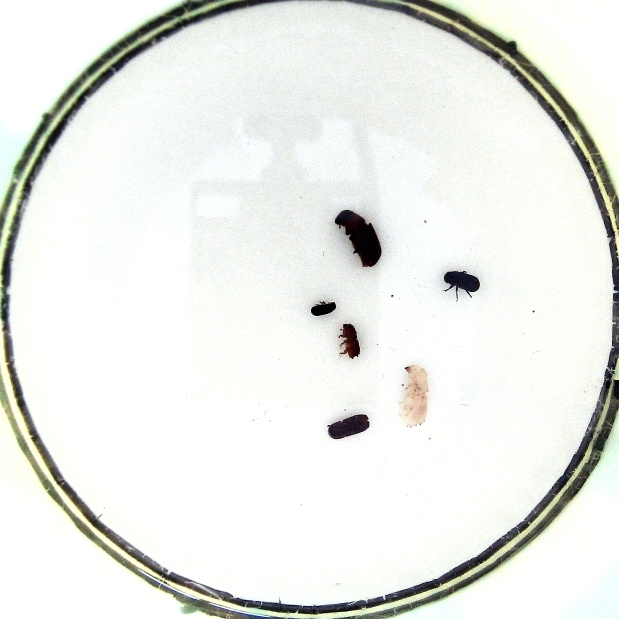acuminatus: (334, 321, 363, 362)
armandi: (440, 268, 479, 300)
boerner: (401, 366, 434, 426)
coleoptera: (309, 296, 337, 320)
leconte: (329, 207, 383, 267)
linnaeus: (325, 411, 373, 439)
